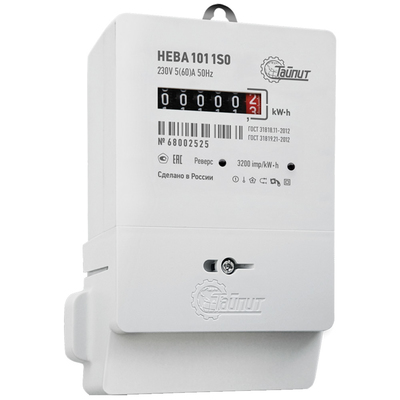counter: (106, 2, 339, 366)
counter_screen: (155, 84, 263, 117)
